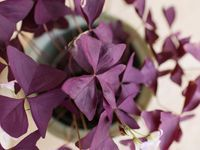butterfly flower: (0, 47, 58, 134), (60, 40, 125, 109), (121, 59, 152, 122)
